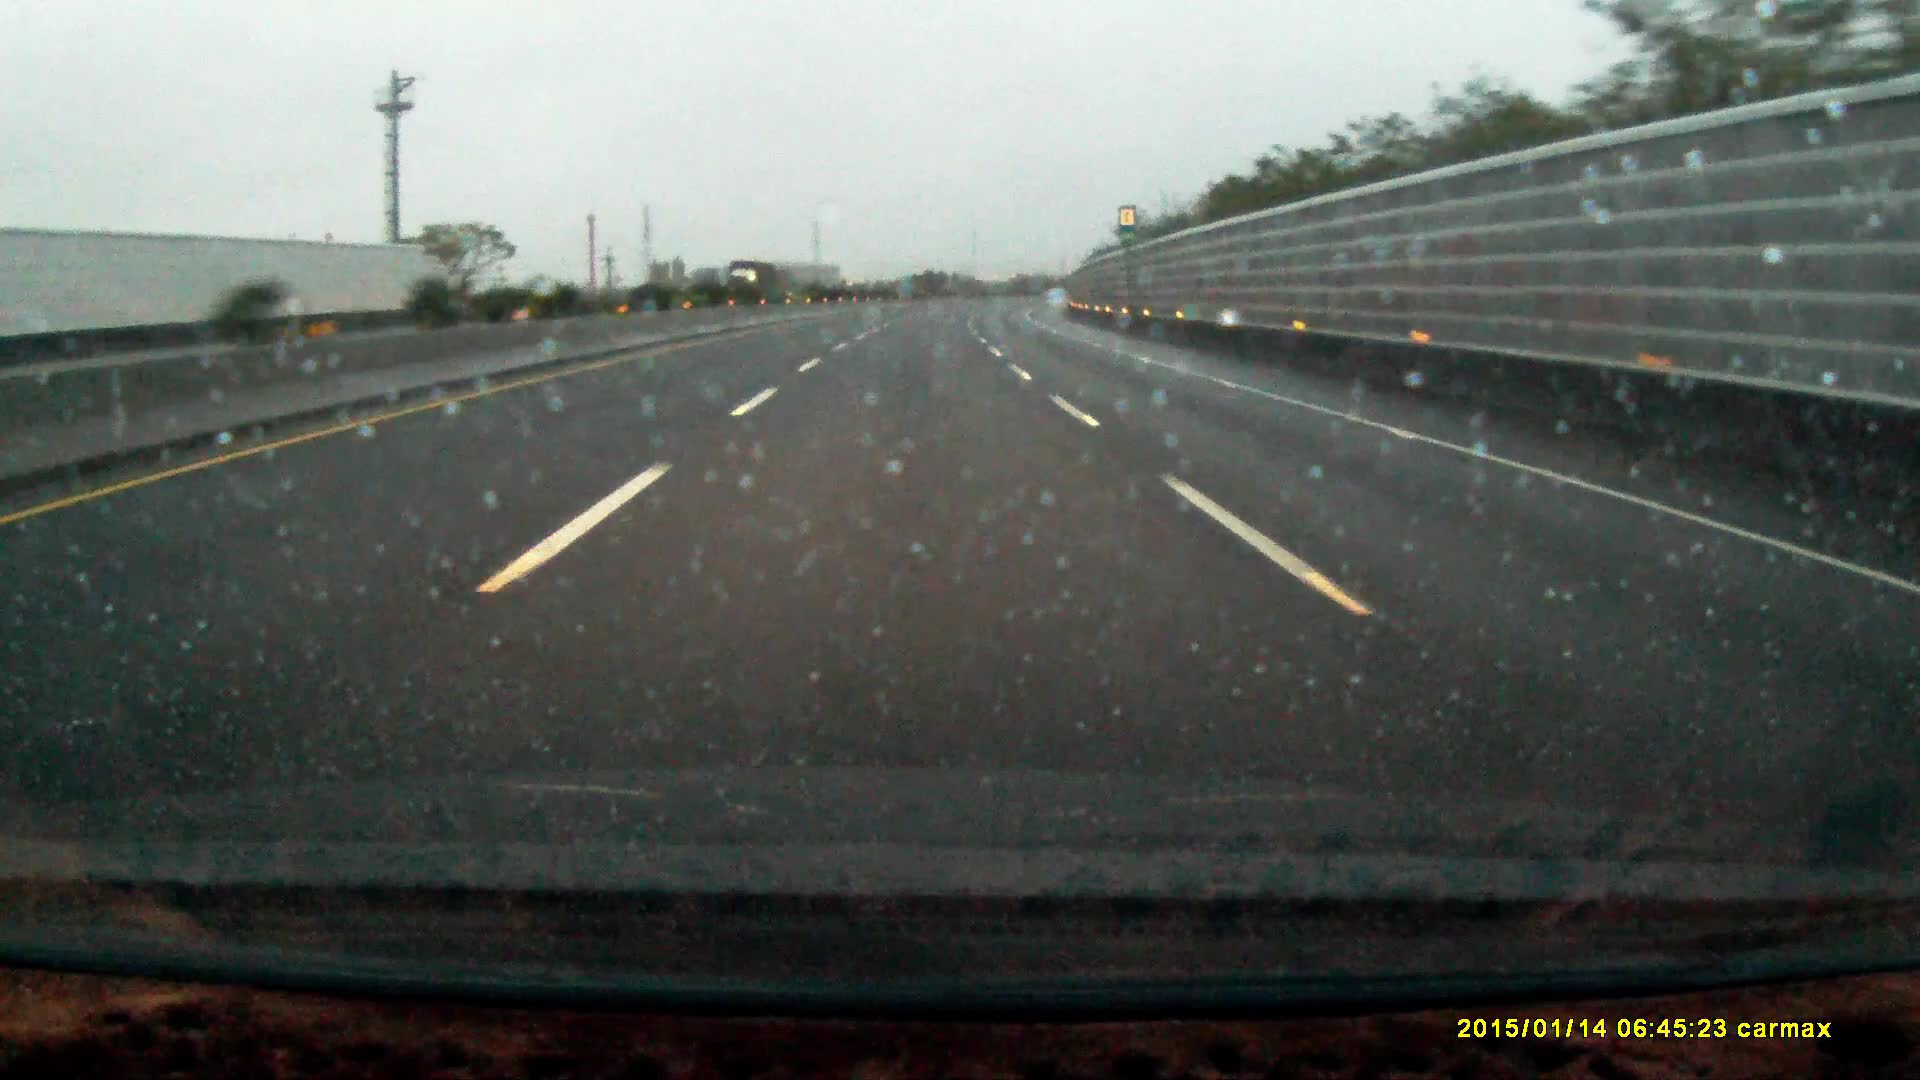vehicle: (727, 264, 777, 301)
